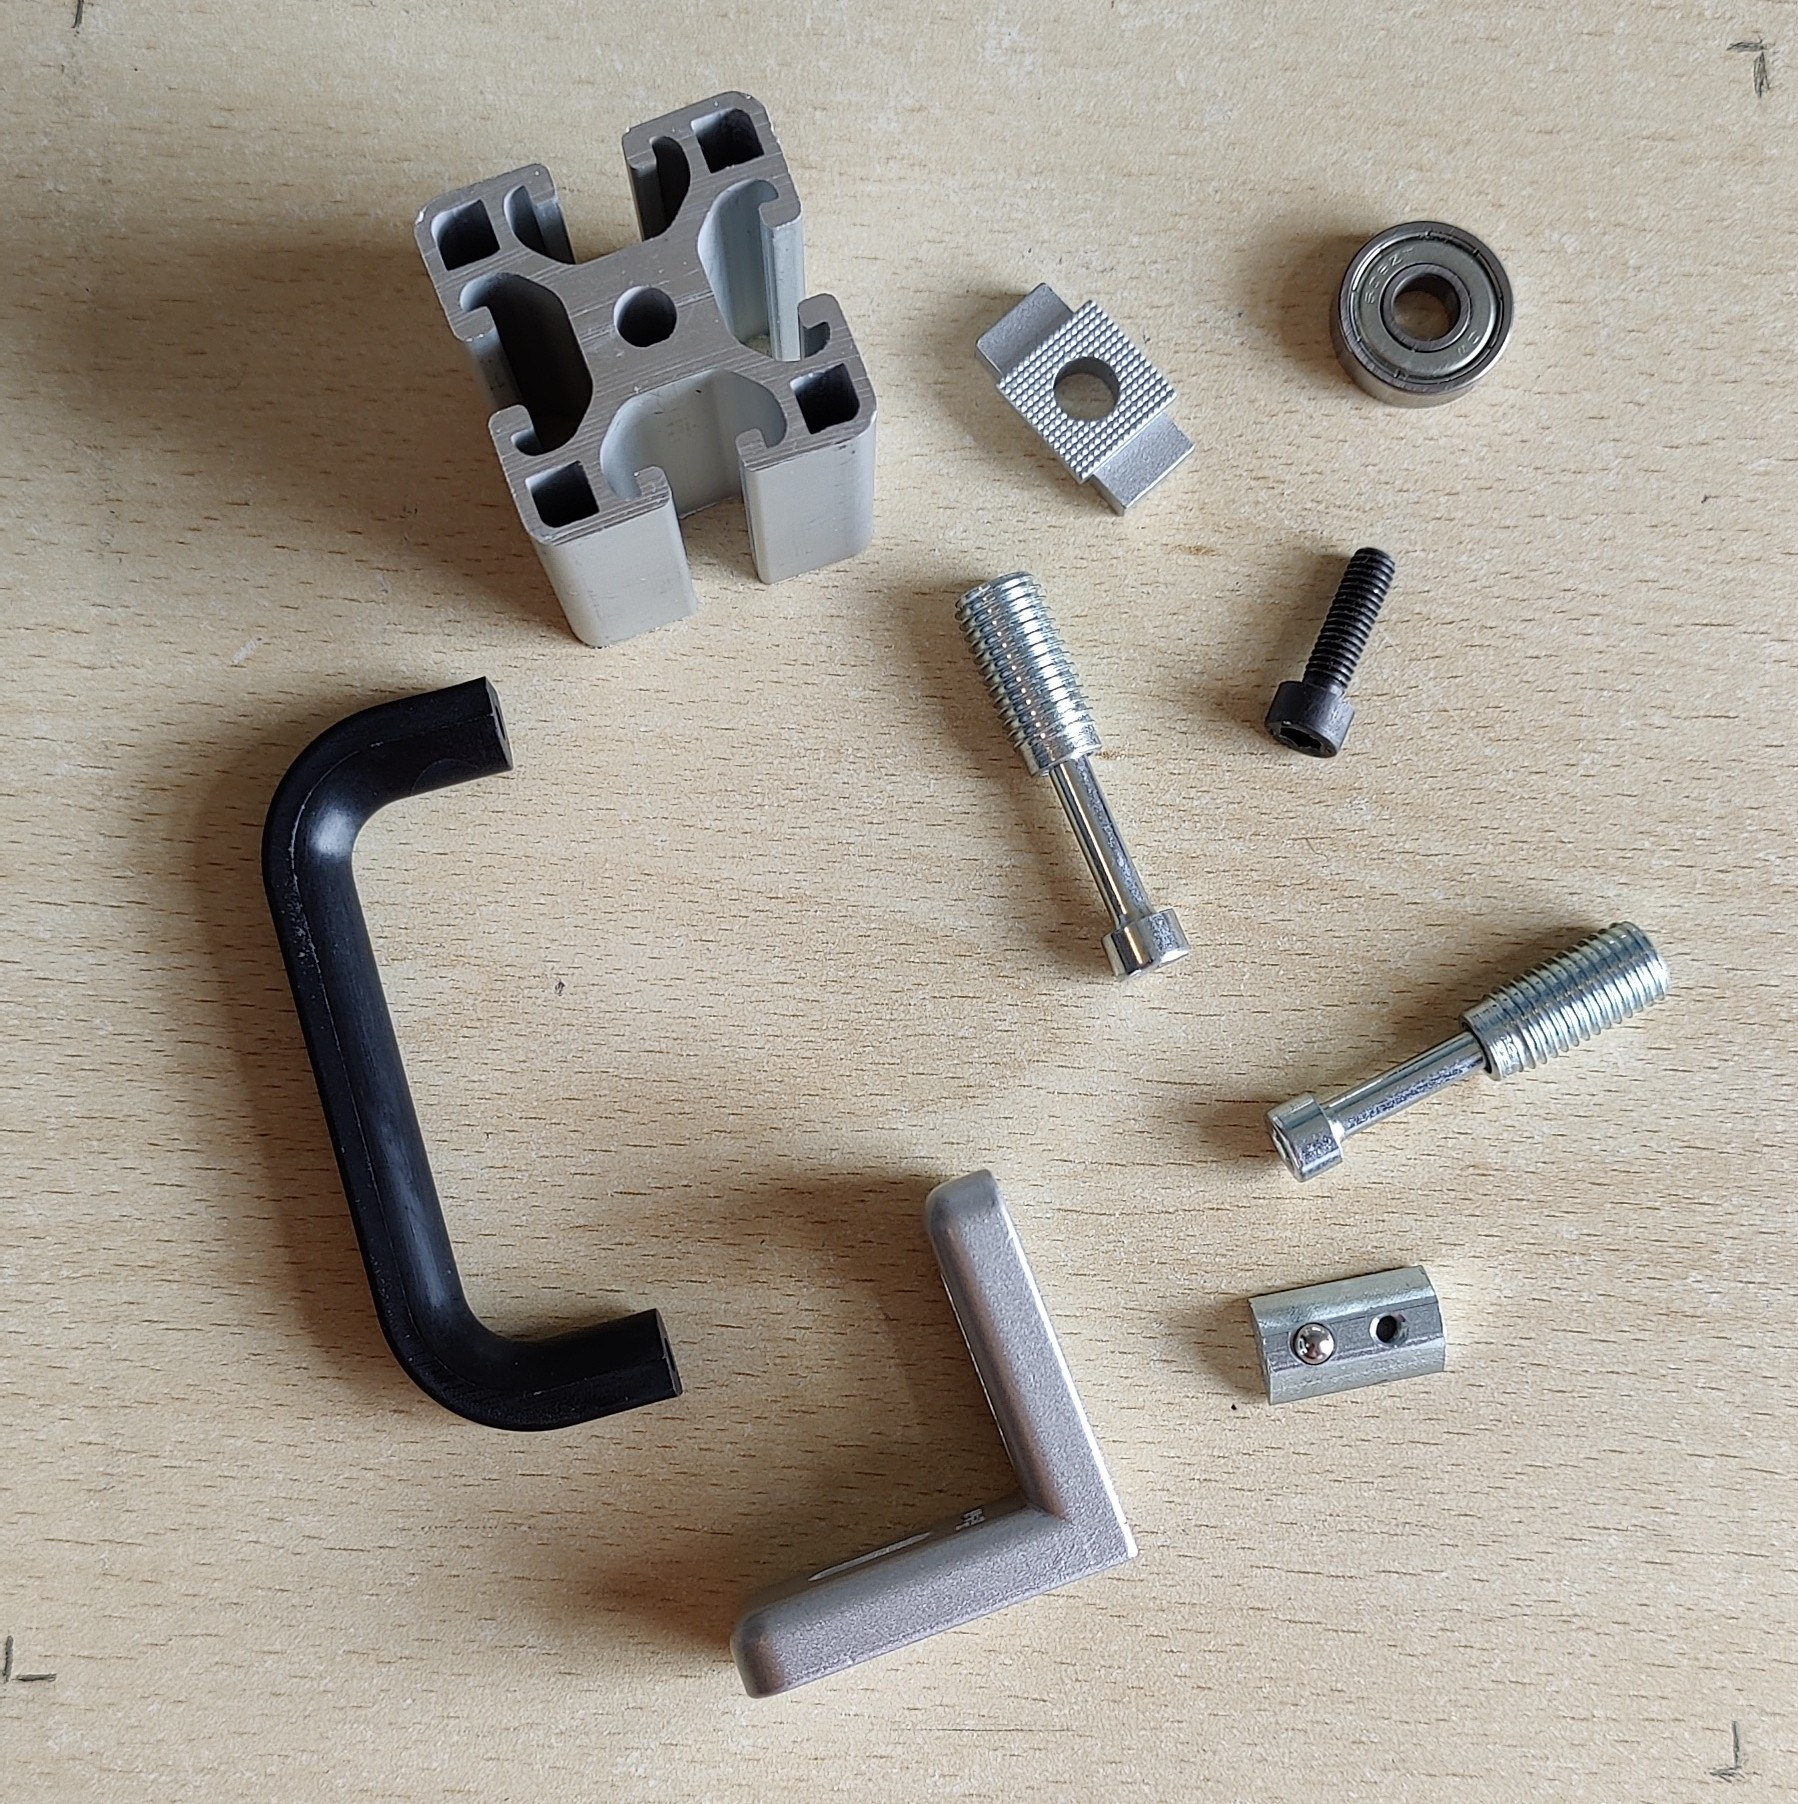Aluminium Extension: (410, 89, 878, 652)
Ball Bearing: (1329, 217, 1516, 411)
Multiwinkel: (726, 1167, 1143, 1700)
Pull Handle: (255, 673, 688, 1434)
Shoulder Socket Head Cap Screw: (1263, 922, 1673, 1185), (952, 568, 1194, 983)
Socket Head Cap Screw: (1261, 545, 1400, 759)
T Nut Square: (975, 280, 1199, 518)
T Spring Nut: (1245, 1264, 1451, 1407)
